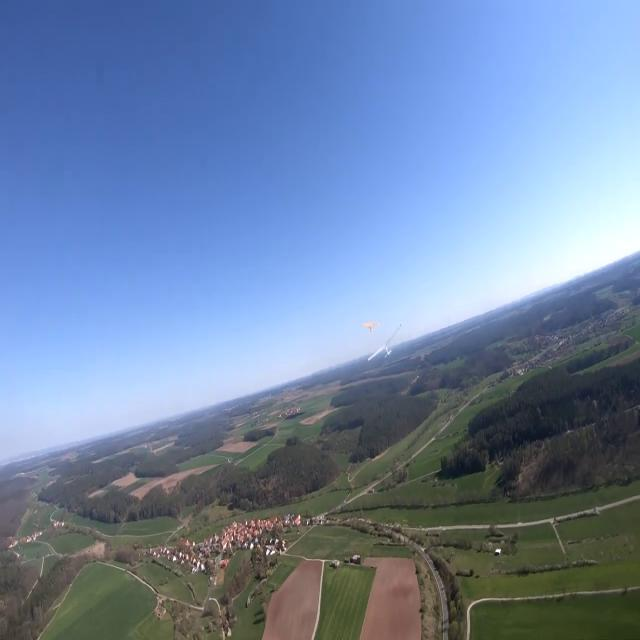iha: (370, 327, 402, 364), (364, 318, 384, 334)
